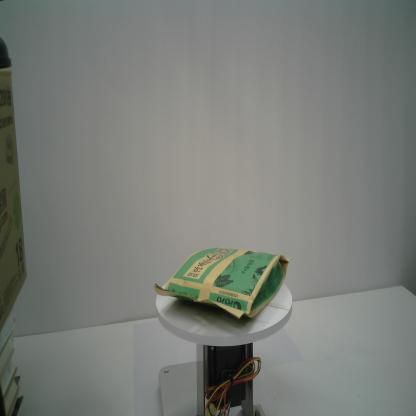Dried Food: (153, 246, 293, 321)
